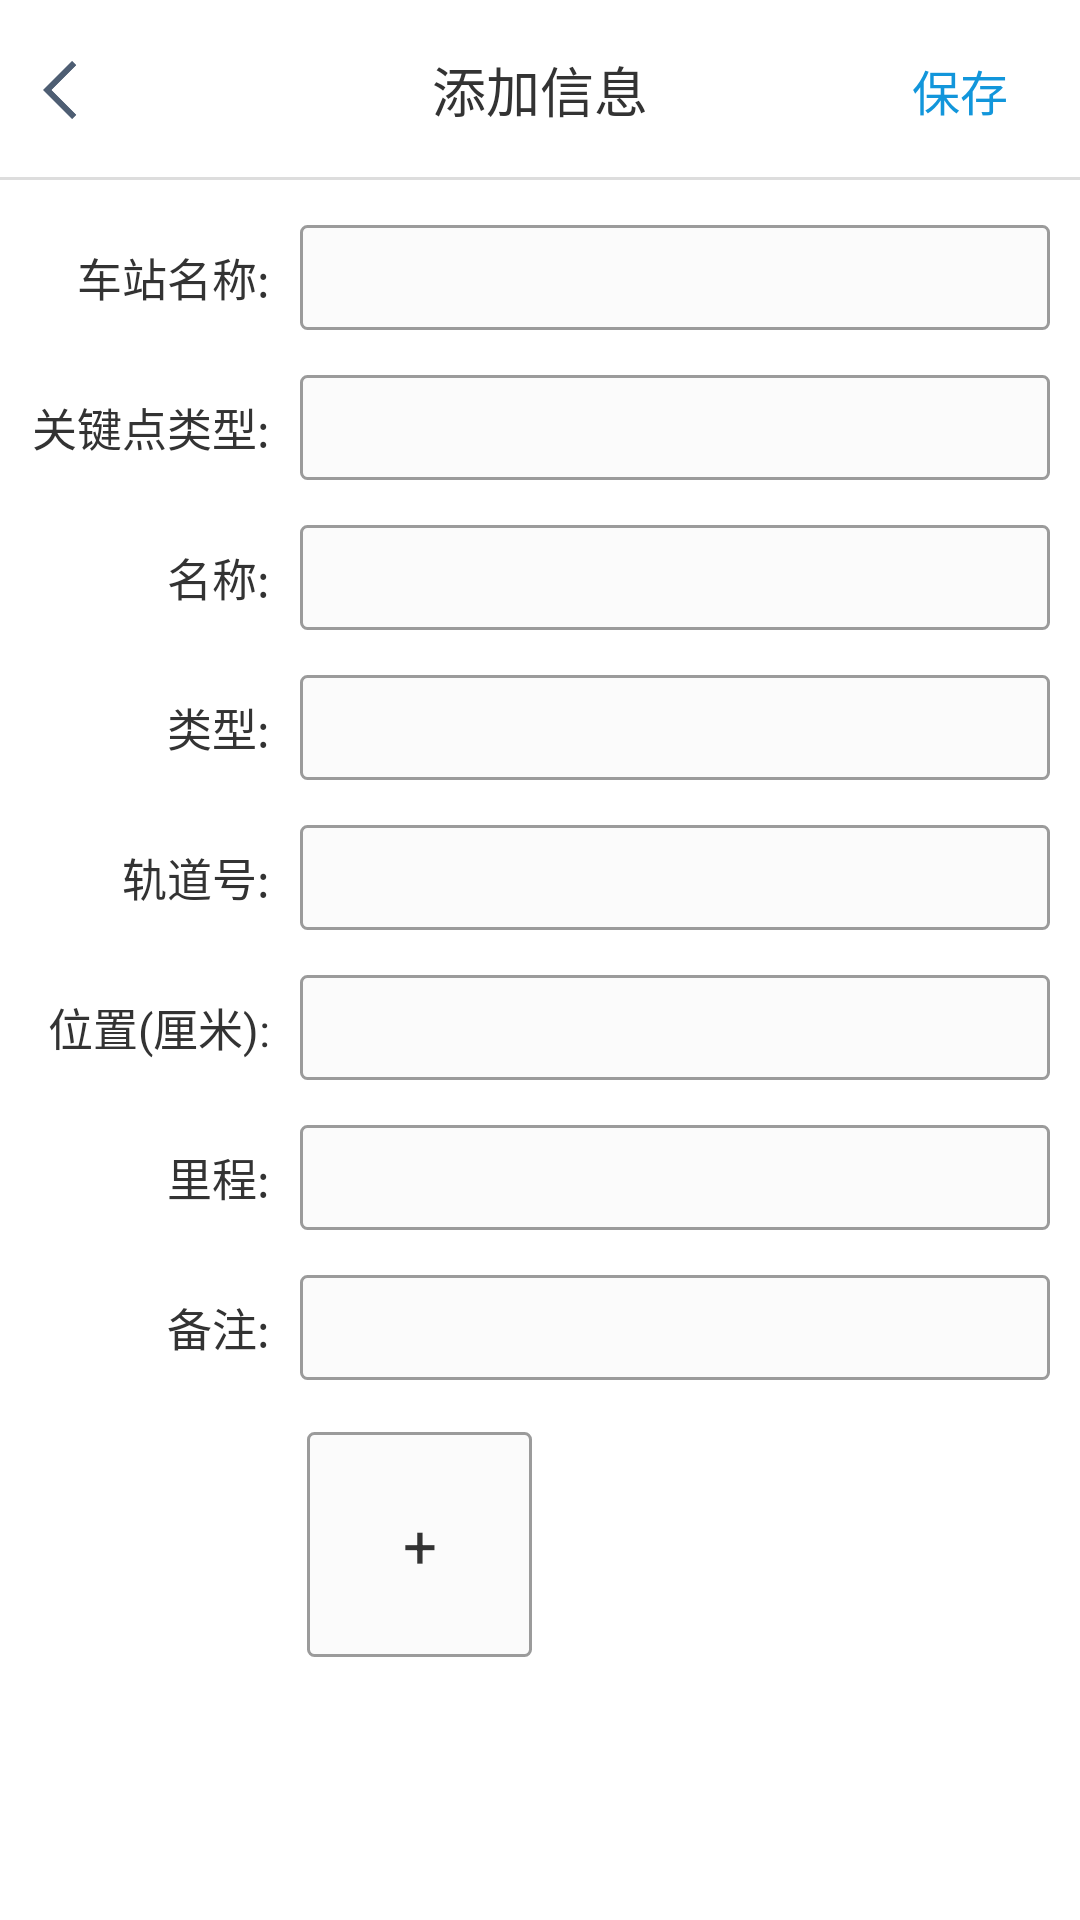

Named icons in this screenshot (1080×1920) and their centers, (x,y):
back: (59,90)
